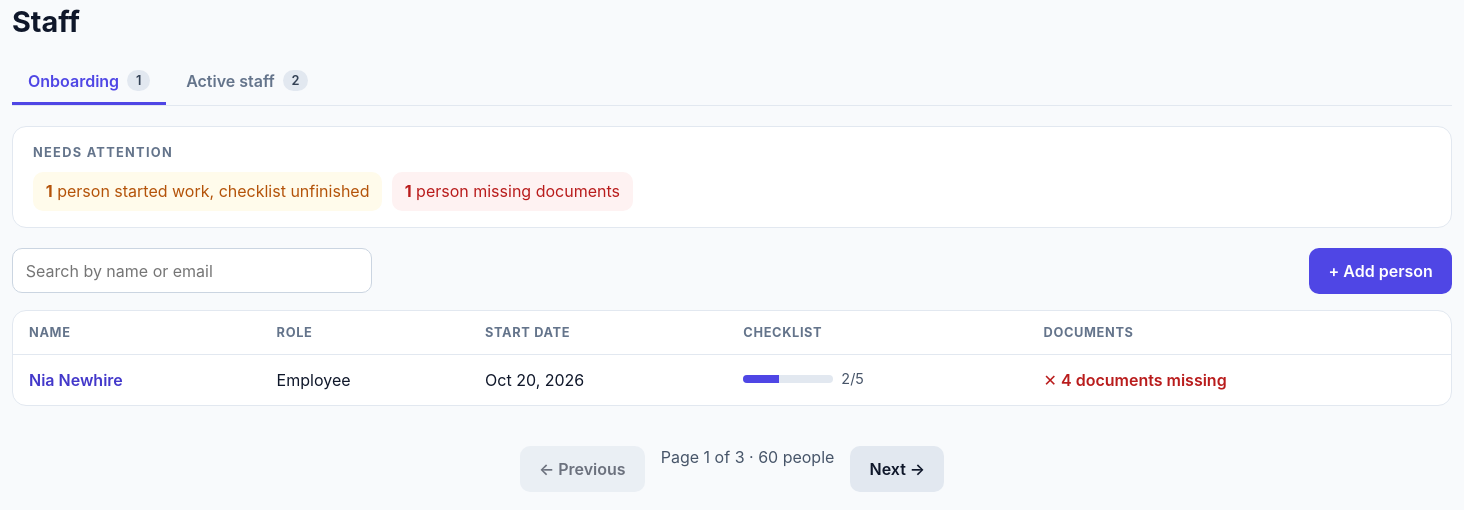
Test: Dashboard › pages through long lists
This screenshot has width=1464, height=510.
Expected: the text "Page 1 of 3 · 60 people" is shown, [661,445,834,469]
Expected: the button "← Previous" is disabled, [520,446,645,492]
Step 1. Click the button "Next →" → click(897, 469), box [850,446,944,492]
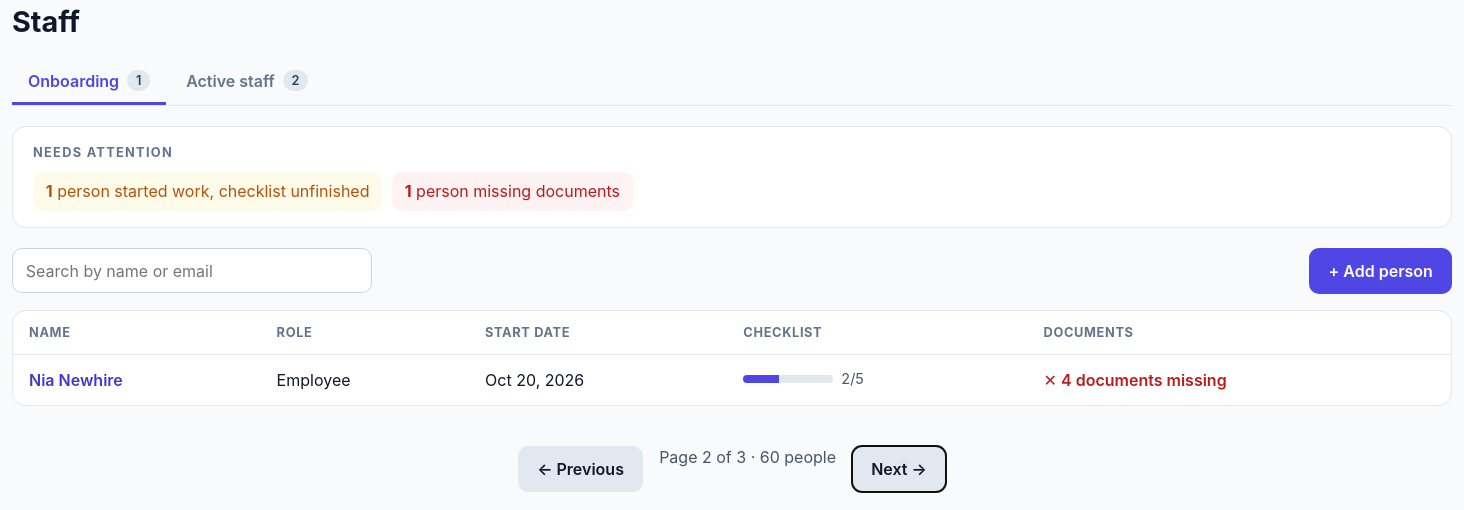
Expected: the text "Page 2 of 3 · 60 people" is shown, [659,445,836,469]
